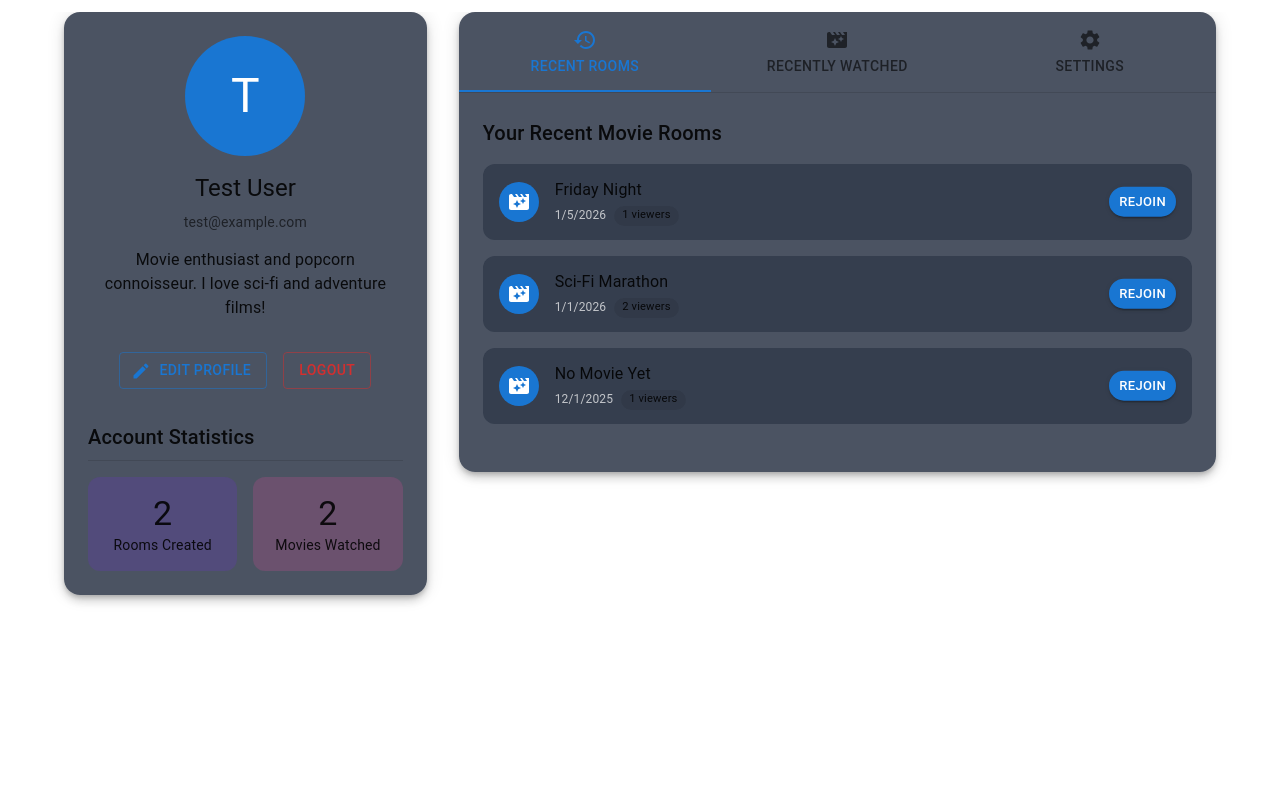
it: Profile real data › replaces the invented favorite-movies tab with real recently-watched movies
expect the text "Friday Night" is shown: met, box [555, 180, 642, 198]
Step 1. Click the tab "Recently Watched" → [837, 52], box [711, 12, 964, 92]
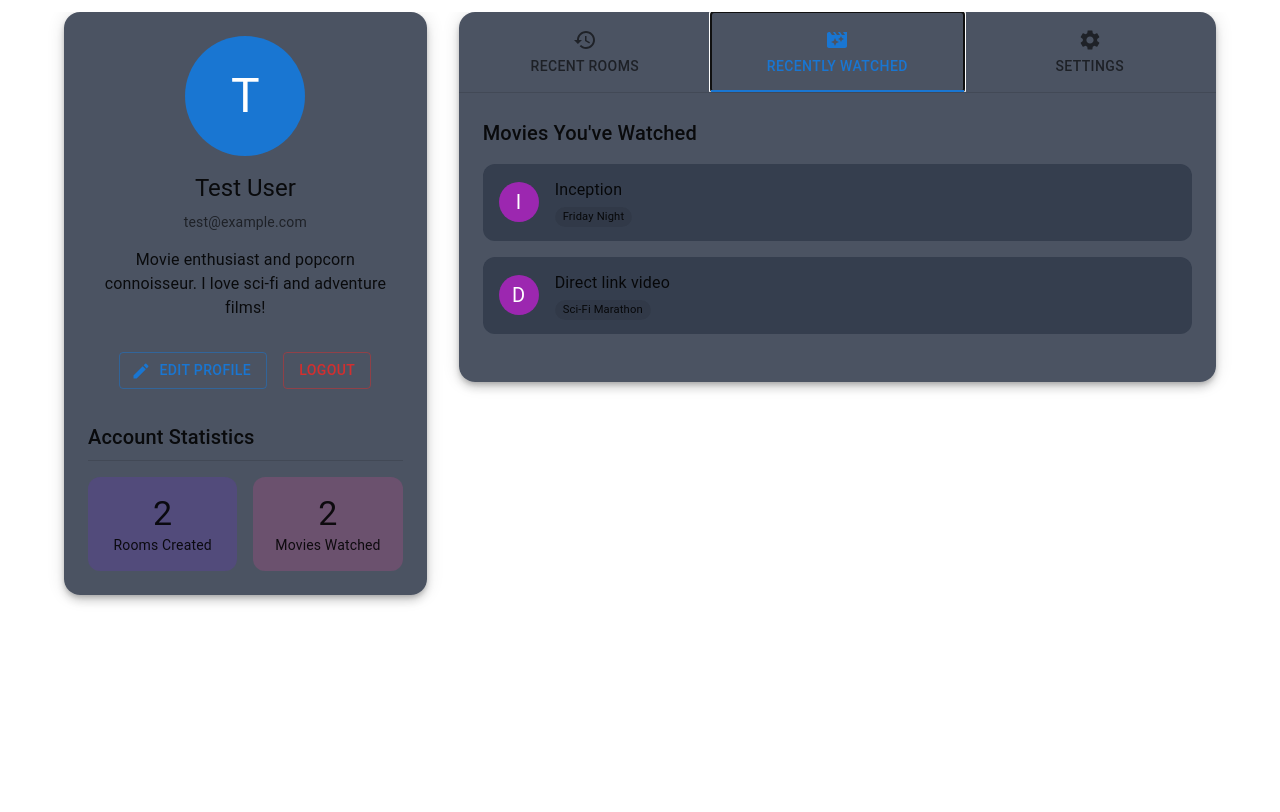
expect the text "Inception" is shown: met, box [555, 180, 622, 198]
